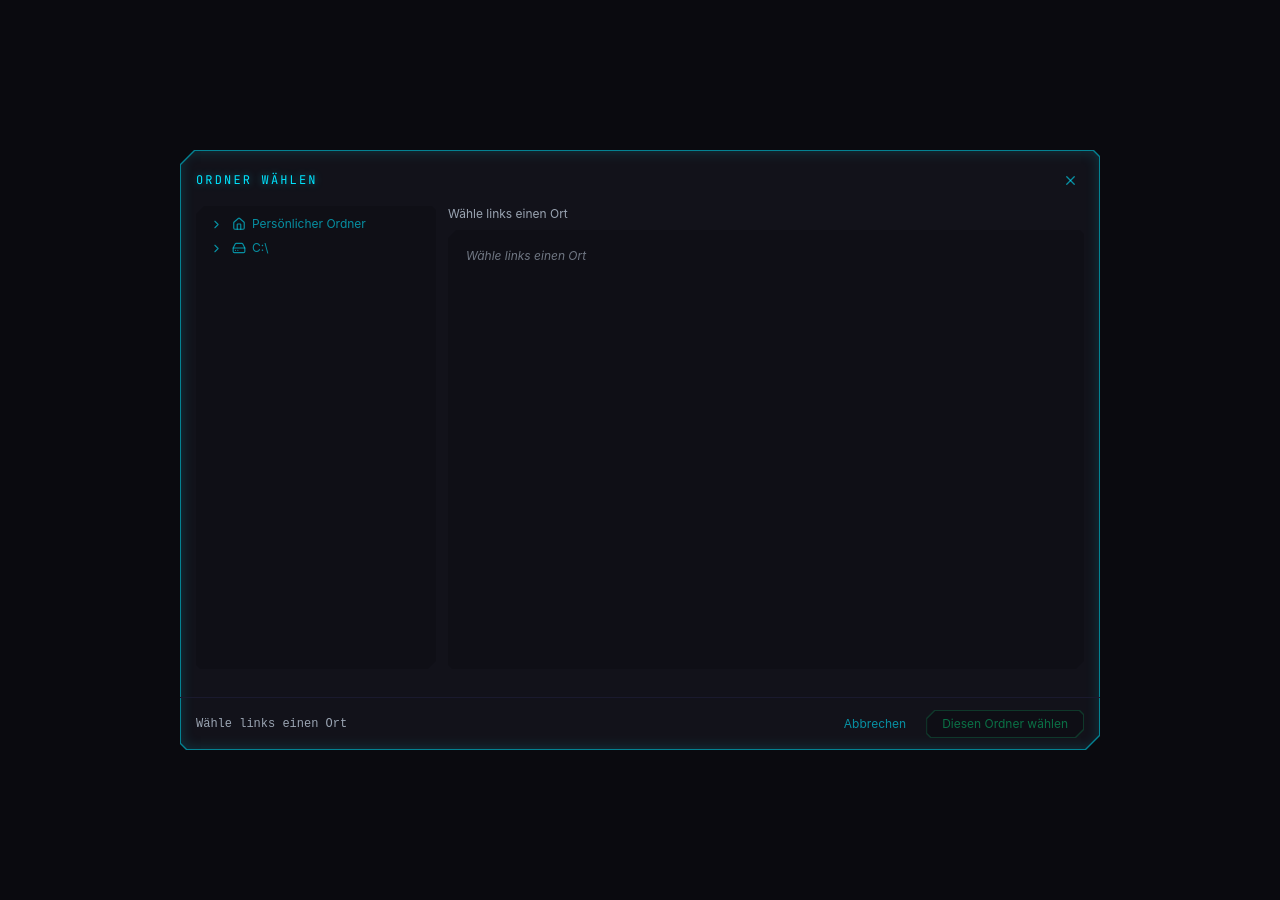
Scenario: FolderBrowser › navigates into a root and lists its subfolders
Click the button "Persönlicher Ordner": (329, 224) [228,212,430,236]
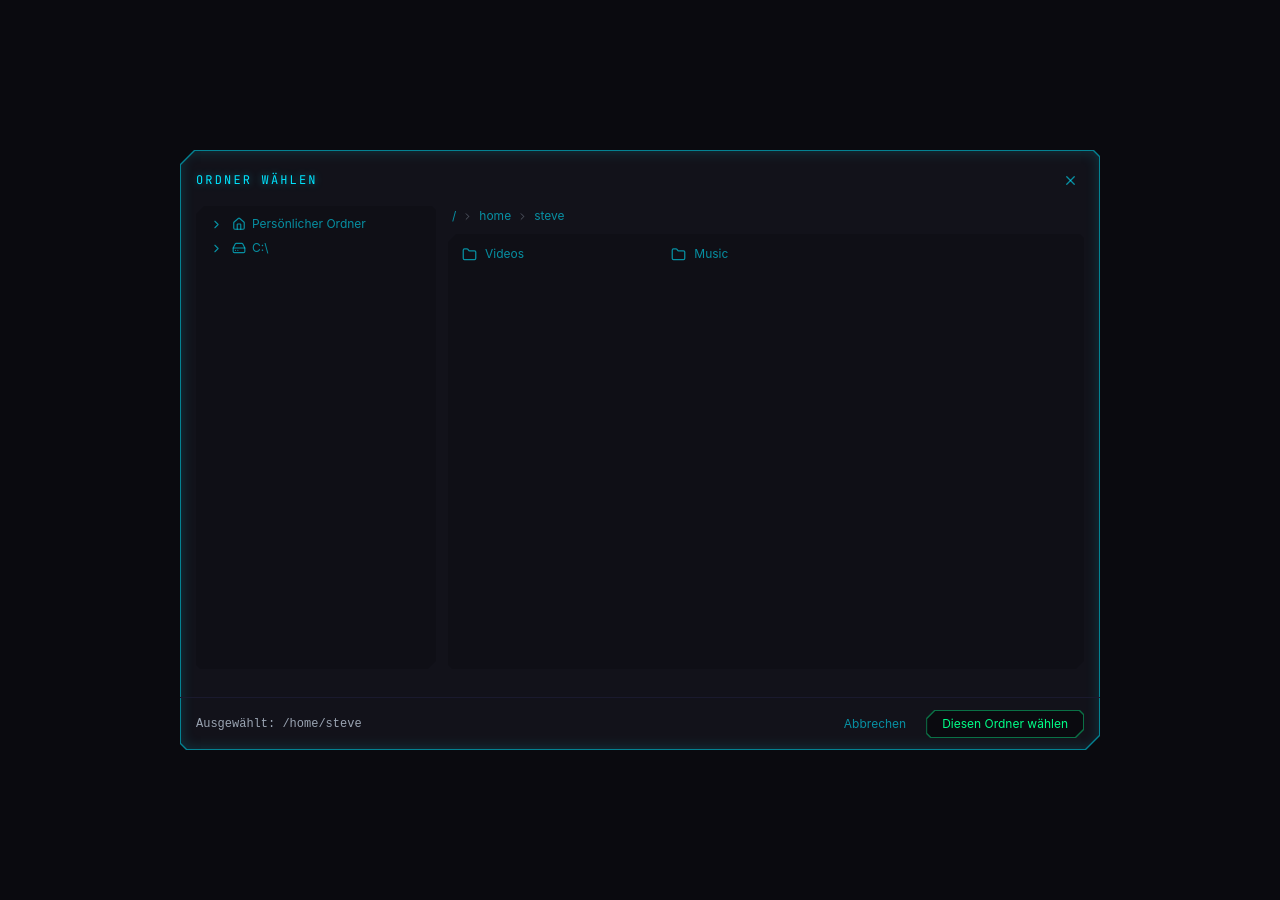
Expected: the button "Videos" is shown, [454,240,659,268]
Expected: the button "Music" is shown, [663,240,869,268]
